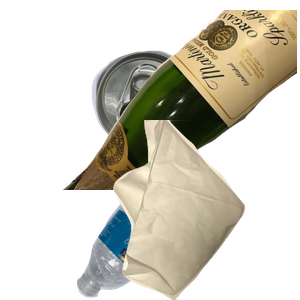glass: (60, 10, 300, 190)
metal: (89, 48, 276, 192)
plastic: (74, 156, 280, 300)
trash: (111, 120, 300, 300)
